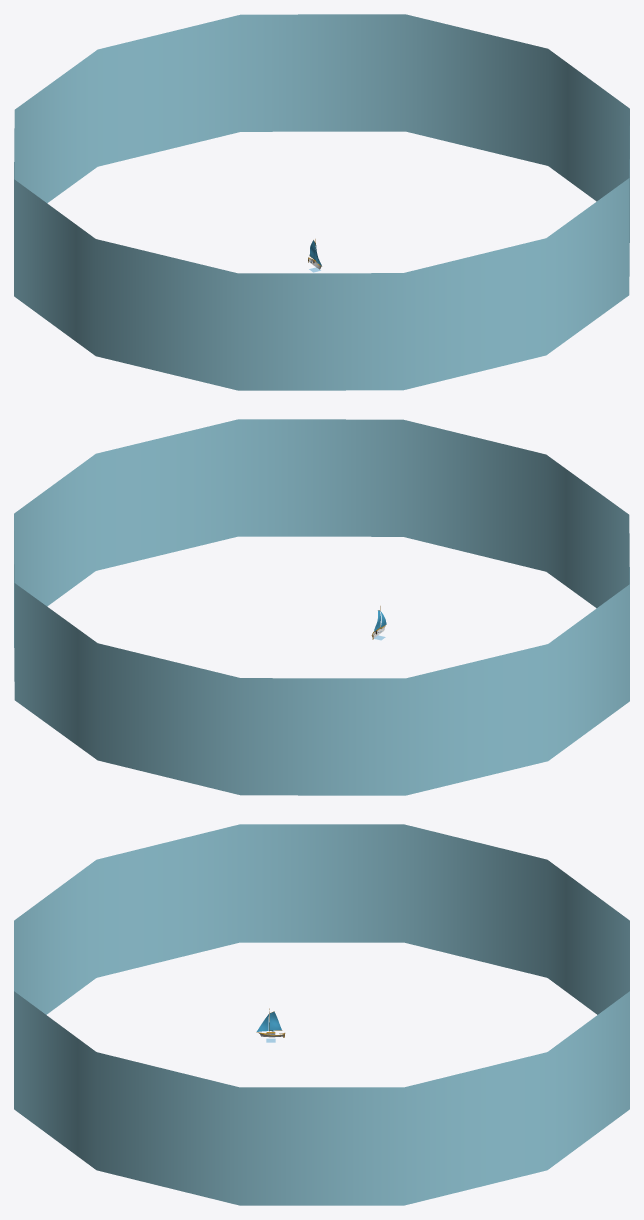
The model's file is boat.glb.
3 views of the same model, one above another, from view 1: azimuth 30°, elevation 25°; view 2: azimuth 150°, elevation 25°; view 3: azimuth 270°, elevation 25° (orthographic).
Parts seen in each view (by area): view 1: ciel; view 2: ciel; view 3: ciel.
Part boxes in pixels (bbox=[...]): ciel: bbox=[14, 14, 629, 390]; ciel: bbox=[14, 419, 629, 795]; ciel: bbox=[14, 824, 629, 1205].
Size of the model in its own units: 181 by 37.99 by 179.
